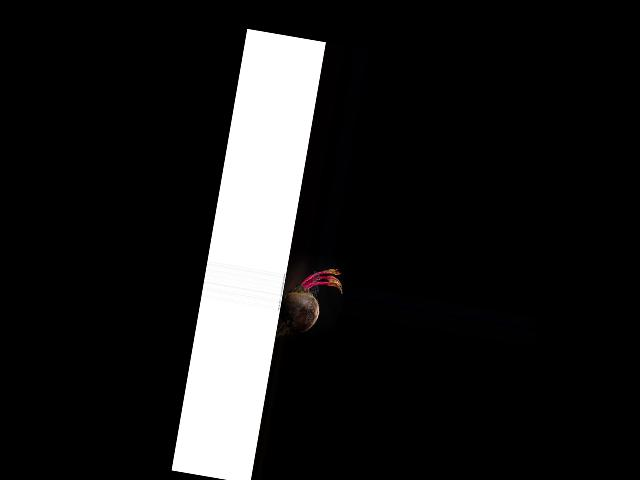beet: (275, 261, 345, 348)
